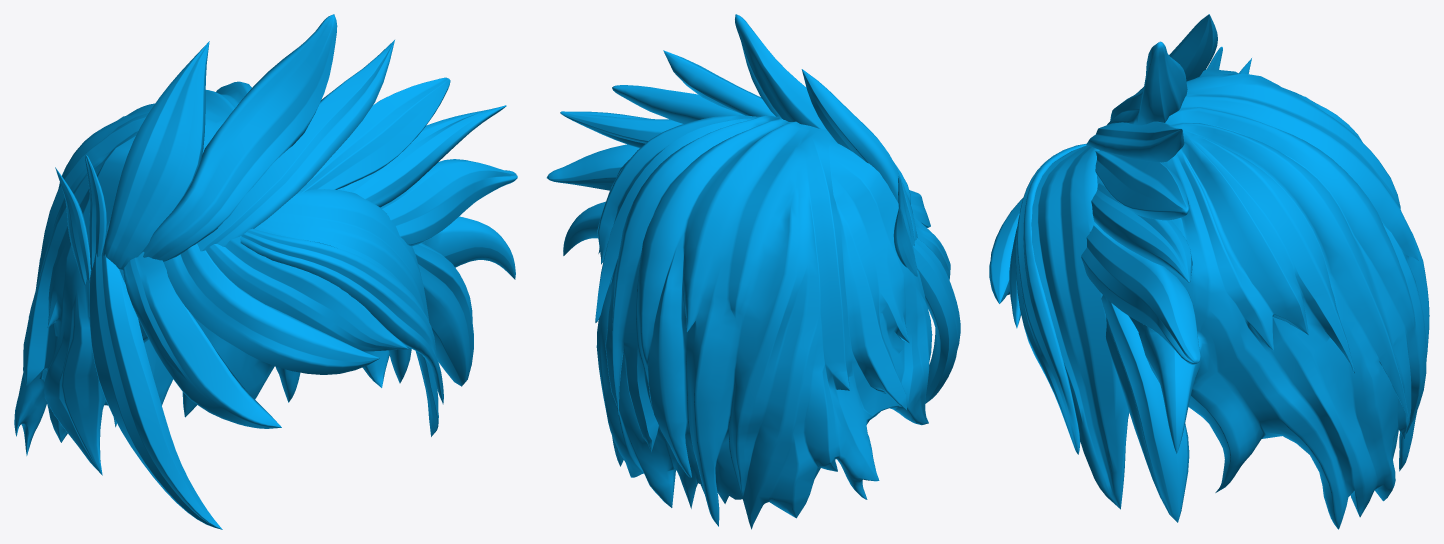
File: cabelo_de_kai_aris.glb
3 renders of one model, left to right at view 1: azimuth 30°, elevation 25°; view 2: azimuth 150°, elevation 25°; view 3: azimuth 270°, elevation 25°, orthographic. The views are drawn at different scales.
Visible parts, largest first — view 1: node_id30_1; view 2: node_id30_1; view 3: node_id30_1.
Boxes of the visible parts, <box> form: node_id30_1: <box>14,14,517,529</box>; node_id30_1: <box>546,14,960,529</box>; node_id30_1: <box>989,14,1429,529</box>.
Bounding box in the file's own units: 0.5054 × 0.512 × 0.4256.
Materials: 1 (1 with a texture image).
